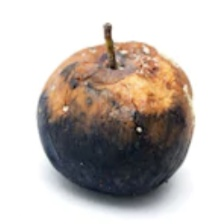apple: (0, 26, 197, 216)
